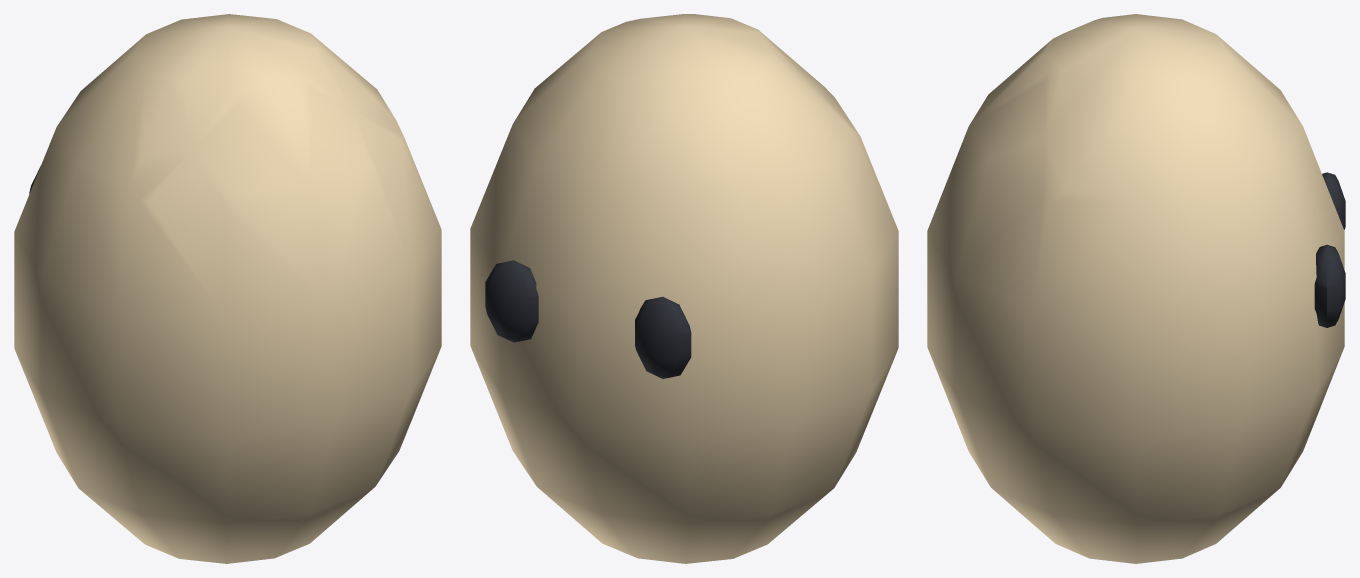
Rendered from gorehulk_f_head.obj.
3 renders of one model, left to right at view 1: azimuth 30°, elevation 25°; view 2: azimuth 150°, elevation 25°; view 3: azimuth 270°, elevation 25°, orthographic.
Visible parts, largest first — view 1: source_component_000; view 2: source_component_000, source_component_001, source_component_002; view 3: source_component_000, source_component_002, source_component_001.
Part boxes in pixels (x1=…): source_component_000: x1=14, y1=14, x2=441, y2=563; source_component_000: x1=470, y1=14, x2=898, y2=563; source_component_001: x1=635, y1=296, x2=691, y2=378; source_component_002: x1=485, y1=260, x2=538, y2=342; source_component_000: x1=927, y1=14, x2=1344, y2=563; source_component_002: x1=1314, y1=244, x2=1345, y2=327; source_component_001: x1=1322, y1=172, x2=1345, y2=229.
Bounding box in the file's own units: 0.351 × 0.47 × 0.3422.
